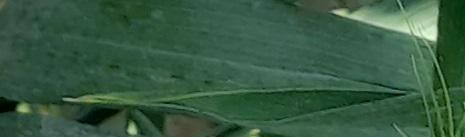Wheat: (5, 5, 296, 96), (312, 43, 454, 137)
